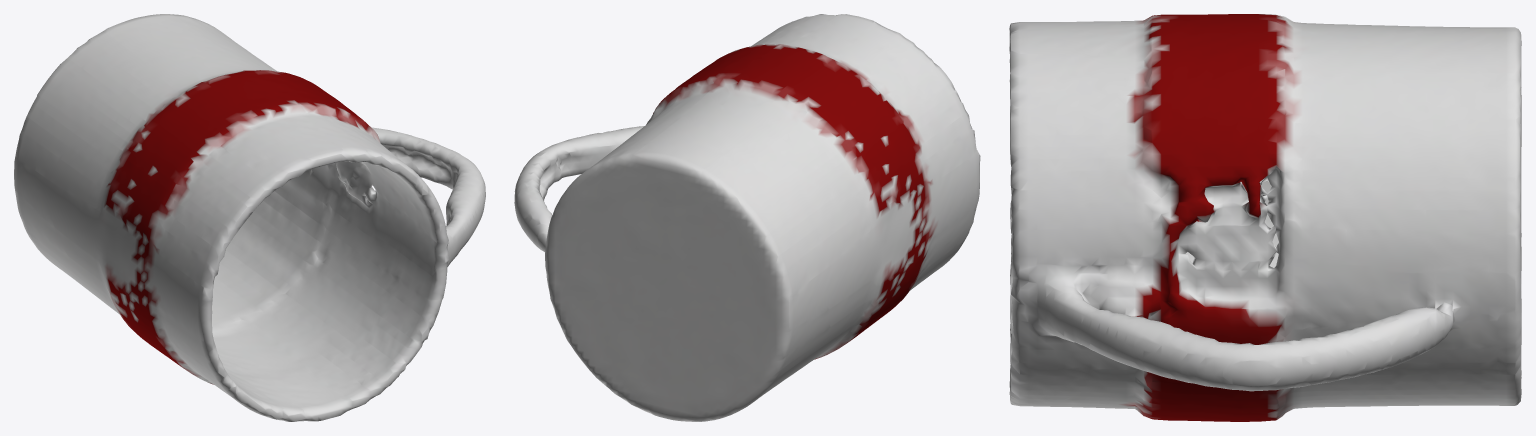
Rendered from a mug.obj.
3 renders of one model, left to right at view 1: azimuth 30°, elevation 25°; view 2: azimuth 150°, elevation 25°; view 3: azimuth 270°, elevation 25°, orthographic. The views are drawn at different scales.
Bounding box in the file's own units: 1 × 0.7465 × 0.9381.
